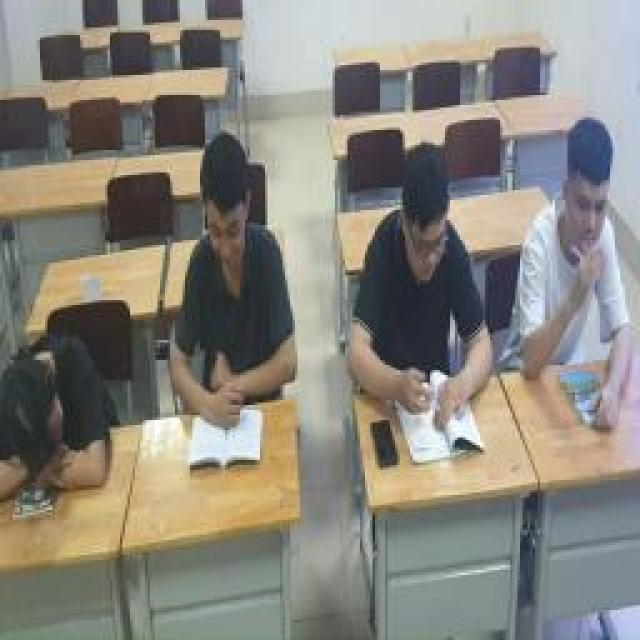sleep: (0, 335, 122, 500)
study: (345, 145, 497, 423), (162, 138, 300, 428), (520, 115, 632, 385)
